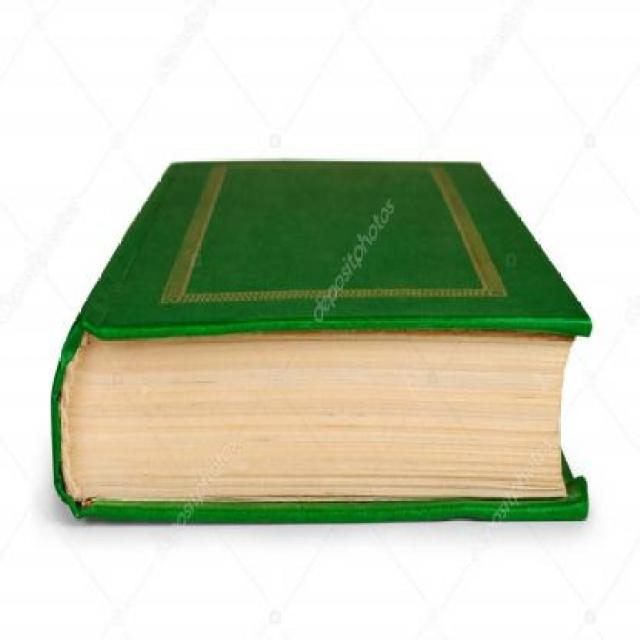book: (45, 80, 591, 573)
